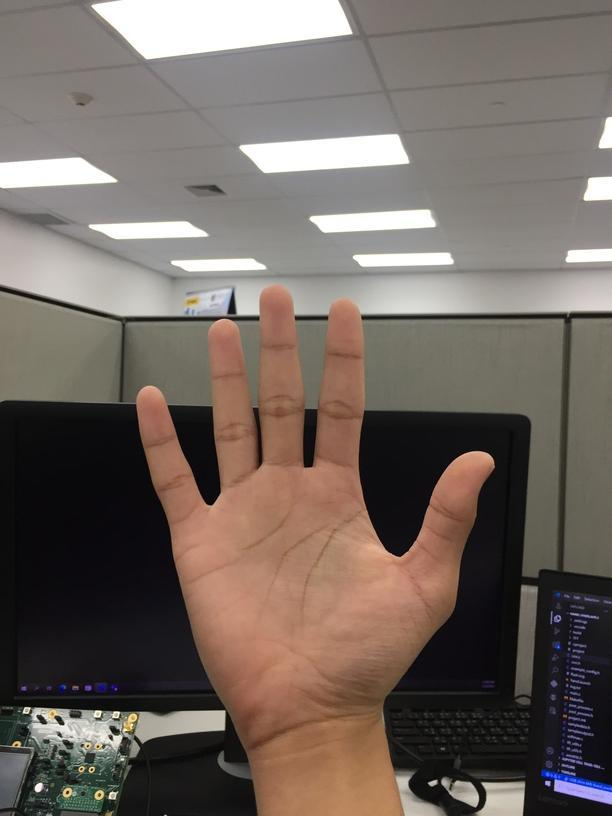hand: (133, 285, 493, 732)
